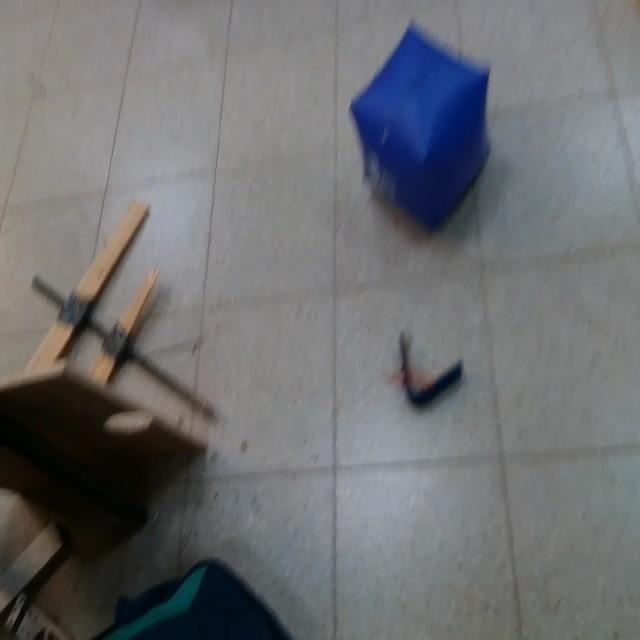cube: (351, 25, 492, 228)
